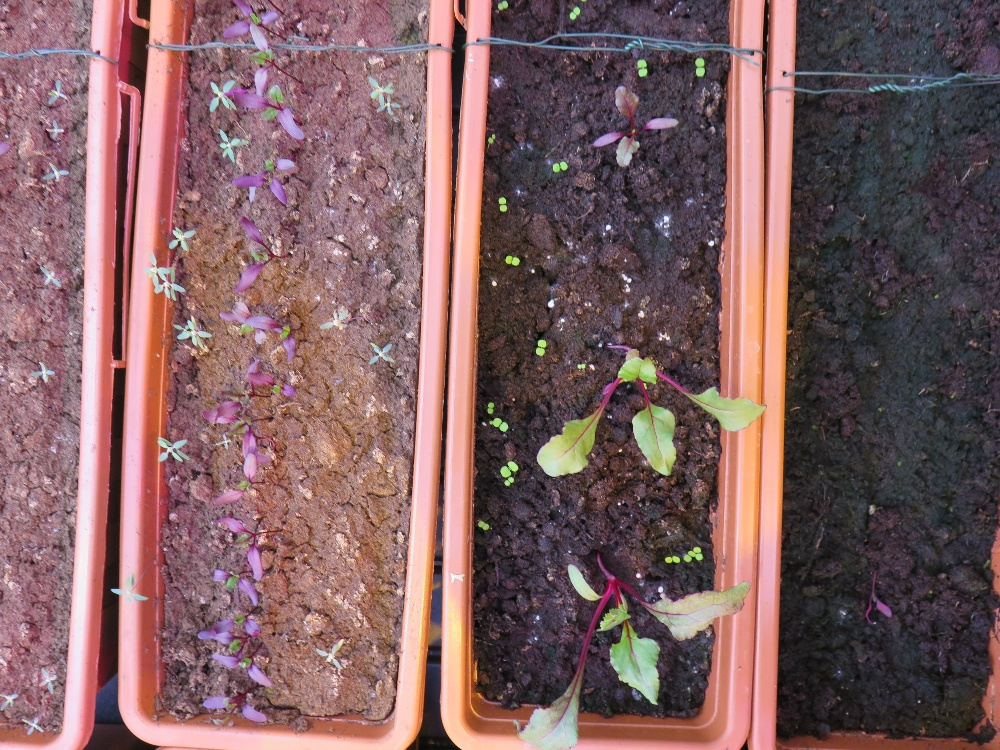crop: (522, 547, 749, 746), (541, 340, 766, 489), (592, 86, 678, 167), (232, 212, 291, 299), (199, 398, 279, 462), (215, 515, 281, 578), (234, 88, 309, 140), (246, 23, 298, 95), (241, 318, 307, 363), (232, 167, 304, 206), (215, 8, 294, 43), (215, 456, 264, 512), (210, 650, 277, 686), (242, 370, 302, 407), (206, 566, 264, 604), (859, 564, 891, 632), (193, 623, 267, 652), (203, 689, 266, 723)
weed: (106, 569, 150, 604), (217, 126, 250, 168), (172, 318, 211, 352), (154, 434, 192, 467), (313, 637, 347, 672), (166, 222, 198, 254), (207, 80, 235, 112), (41, 76, 70, 106), (318, 305, 350, 332), (39, 157, 71, 184), (161, 268, 187, 300), (34, 663, 59, 695), (366, 340, 394, 367), (26, 360, 56, 384), (38, 262, 63, 289), (145, 255, 166, 286), (19, 714, 44, 740), (375, 95, 403, 118), (364, 76, 392, 98), (42, 118, 66, 141), (212, 432, 233, 452), (1, 692, 17, 715), (636, 56, 649, 79), (535, 337, 548, 359), (694, 55, 706, 78), (501, 460, 516, 478), (551, 159, 568, 174), (503, 254, 521, 268), (569, 4, 581, 21), (497, 196, 508, 214), (663, 555, 681, 566), (475, 518, 490, 531), (503, 475, 517, 488), (496, 1, 508, 13), (486, 132, 496, 146), (575, 360, 587, 371), (487, 400, 495, 415)
